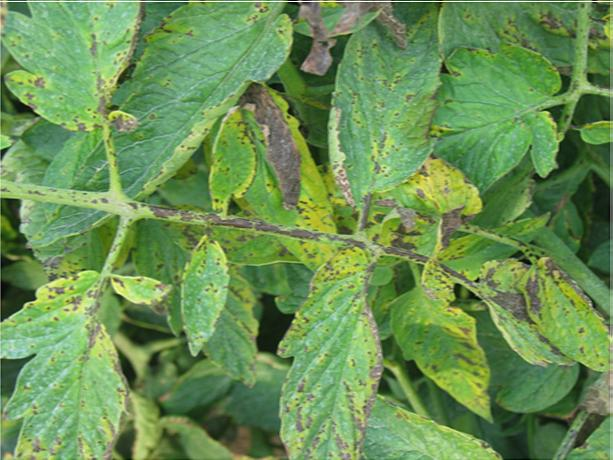Tomato leaf bacterial spot: (23, 1, 294, 241), (255, 246, 400, 455), (0, 255, 134, 460), (318, 21, 451, 218), (399, 47, 567, 199), (393, 279, 501, 429), (523, 247, 612, 377), (175, 231, 237, 359), (206, 109, 264, 216), (107, 272, 178, 310)
